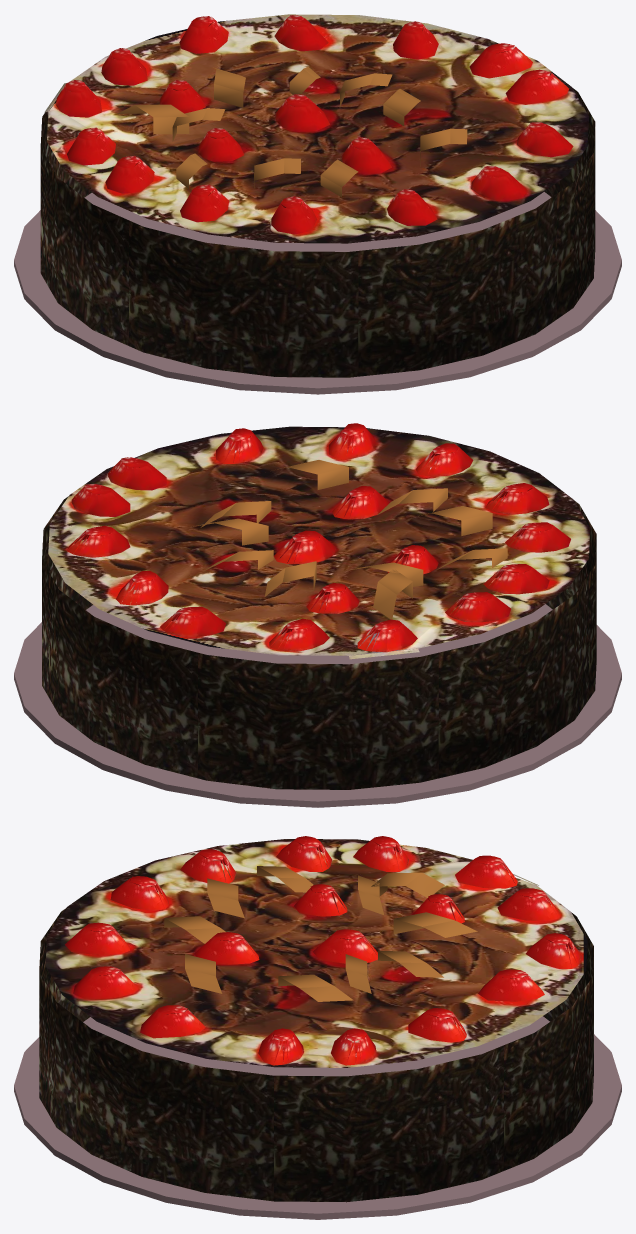
Rendered from tart-choc.glb.
The picture shows the model from 3 angles, top to bottom: view 1: azimuth 30°, elevation 25°; view 2: azimuth 150°, elevation 25°; view 3: azimuth 270°, elevation 25°; orthographic projection.
Parts seen in each view (by area): view 1: tart-choc; view 2: tart-choc; view 3: tart-choc.
Boxes of the visible parts, box(x1,y1,x2,y2) form: tart-choc: box(14, 14, 621, 394); tart-choc: box(14, 423, 621, 807); tart-choc: box(14, 836, 621, 1219).
Size of the model in its own units: 0.2794 by 0.0787 by 0.2794.
4 materials, 2 textured.
